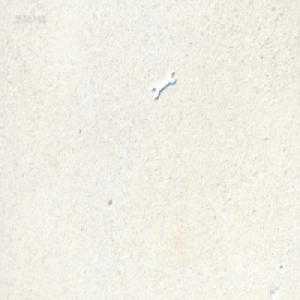Wrench: (152, 69, 175, 99)
